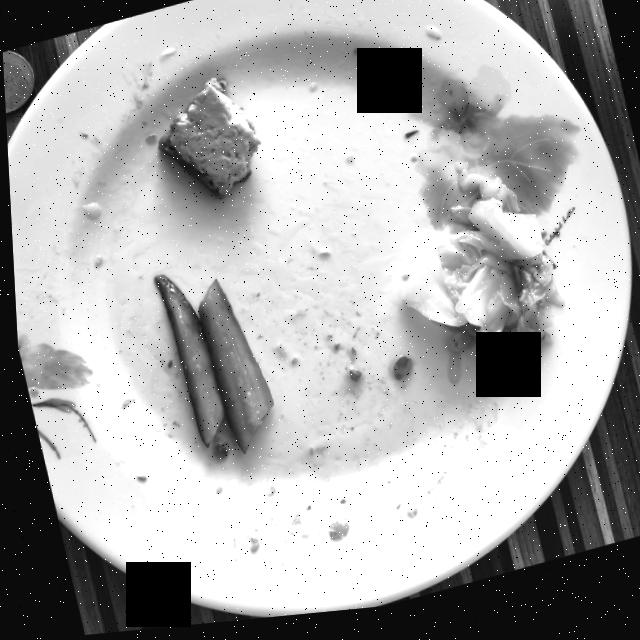cabbage: (397, 170, 560, 380)
coin: (2, 50, 33, 113)
cucumber: (151, 276, 269, 457)
egg tofu: (156, 81, 259, 201)
